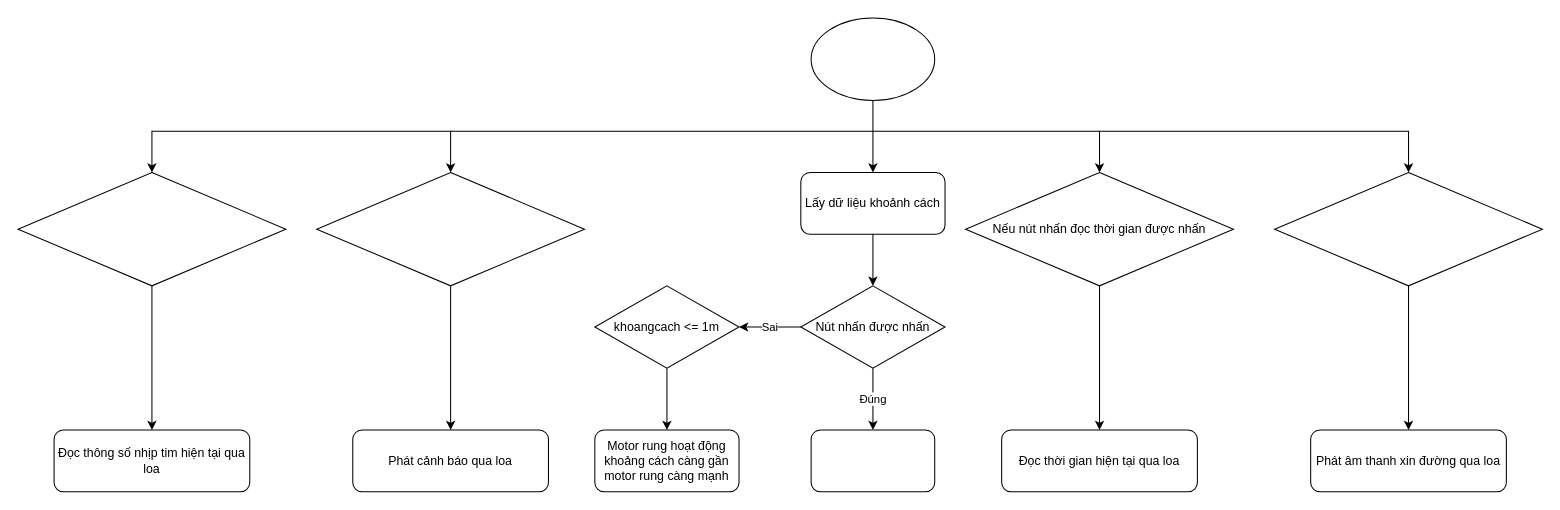
Image size: 1560x510. Some labels were removed from this diagram. The shapes that lost their labels are listed below. From the top down, each one's box as (x1, y1, x2, y2) in pixels, then its label:
(810, 17, 935, 100): Bắt đầu
(17, 171, 286, 286): Nếu nút nhấn đọc nhịp tim được nhấn
(316, 171, 585, 286): Nếu cảm biến phát hiện nước
(1274, 171, 1542, 286): Nếu nút nhấn xin đường được nhấn
(810, 429, 935, 492): Đọc dữ liệu khoảng cách ra loa
